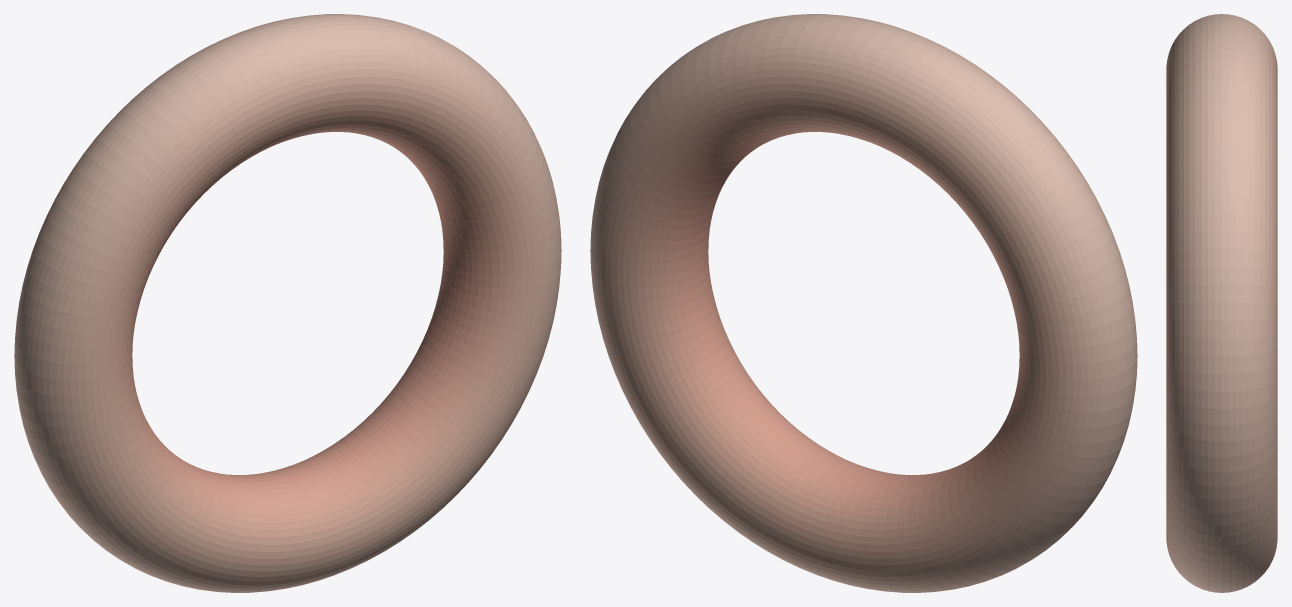
3 renders of one model, left to right at view 1: azimuth 30°, elevation 25°; view 2: azimuth 150°, elevation 25°; view 3: azimuth 270°, elevation 25°, orthographic. The views are drawn at different scales.
Parts seen in each view (by area): view 1: world; view 2: world; view 3: world.
Boxes of the visible parts, bbox=[...] form: world: bbox=[14, 14, 561, 592]; world: bbox=[590, 14, 1137, 592]; world: bbox=[1166, 14, 1277, 592].
Bounding box in the file's own units: 28.89 × 28.89 × 5.54.
